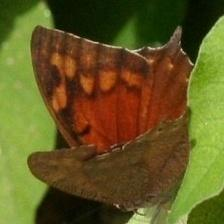butterfly: (29, 27, 194, 214)
